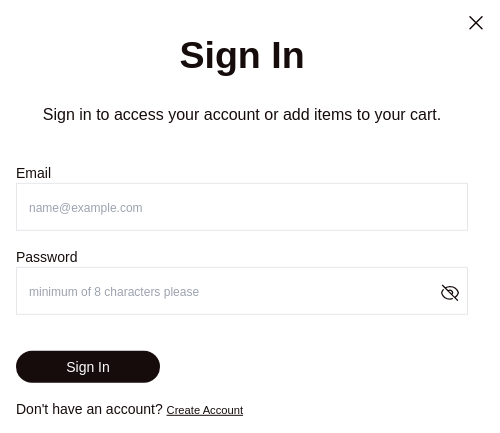
Test: SignIn Component › form should not be submitted if the required fields are empty
Step 1. Click the button "Sign In" → [88, 367], box x1=16 y1=351 x2=160 y2=383
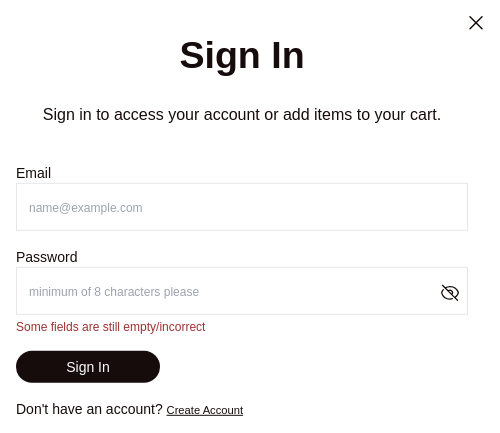
Check: the text "Some fields are still empty/incorrect" is shown, box x1=16 y1=320 x2=205 y2=334
